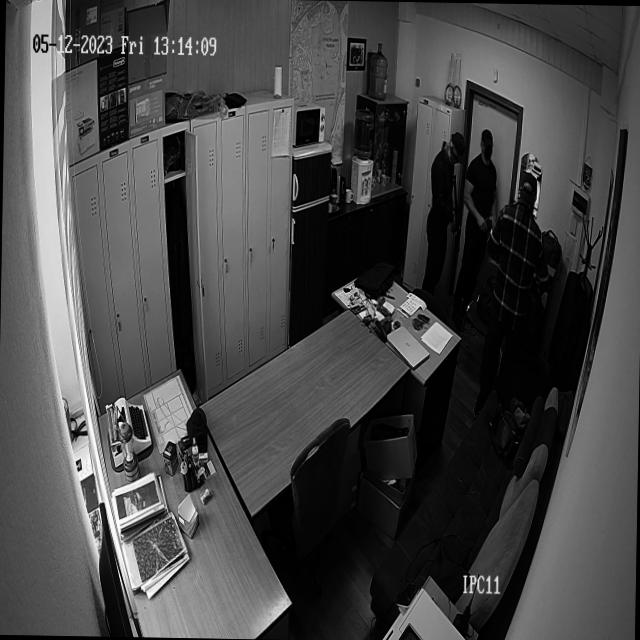gun: (448, 173, 464, 254), (478, 213, 494, 232)
person: (492, 170, 548, 376)
person with a gun: (420, 126, 466, 300), (465, 128, 501, 236)
